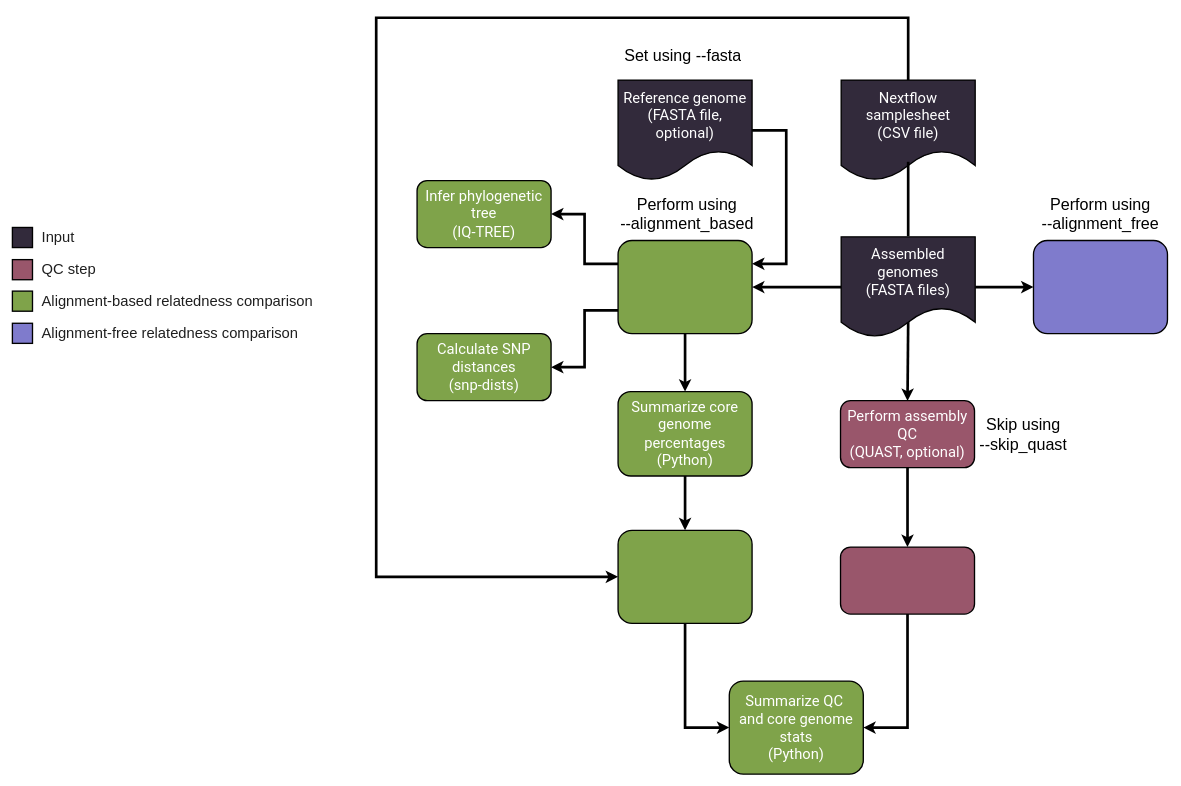
Some shapes in this 1181 by 786 pixel diagram are drawn without their labels. Each missing label, with the centre of its shape:
"Create tree using Mash distances (Mashtree)" goes at point 1100,287.
"Determine isolates excluded from final alignment (Python)" goes at point 684,576.
"Perform core genome SNP alignment (Parsnp)" goes at point 684,287.
"Summarize assembly quality ( Python )" goes at point 907,580.
